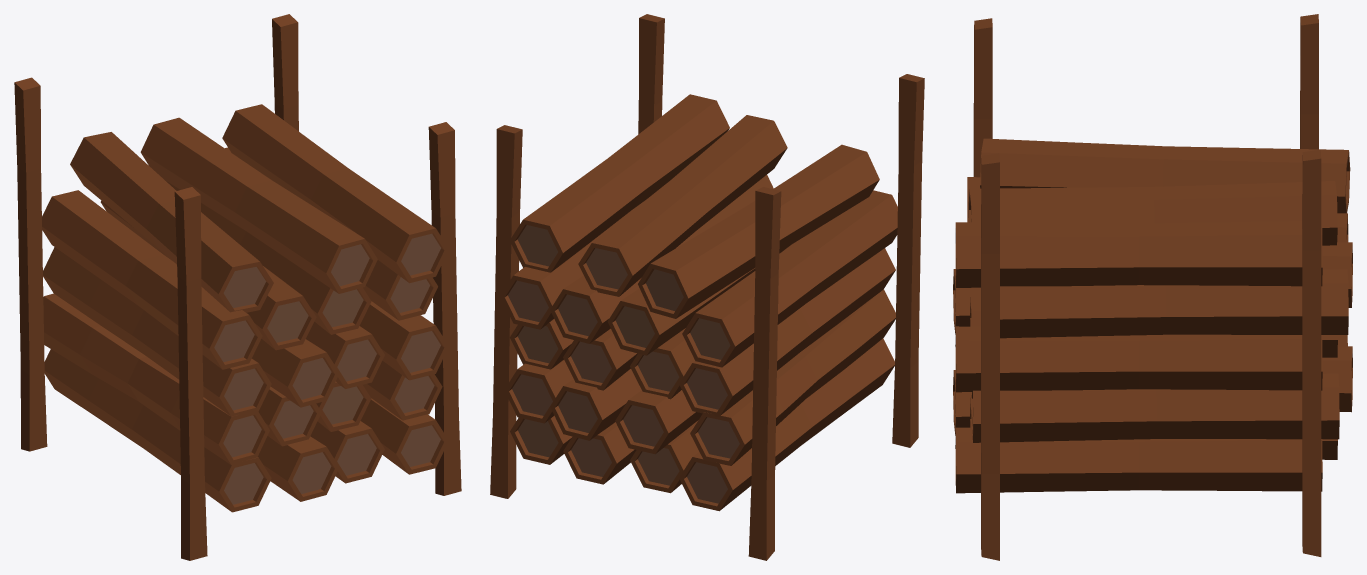
File: Logs1.fbx
The picture shows the model from 3 angles, left to right: view 1: azimuth 30°, elevation 25°; view 2: azimuth 150°, elevation 25°; view 3: azimuth 270°, elevation 25°; orthographic projection. The views are drawn at different scales.
Parts seen in each view (by area): view 1: Log_pile; view 2: Log_pile; view 3: Log_pile.
Boxes of the visible parts, x1=… form: Log_pile: x1=14, y1=14, x2=461, y2=560; Log_pile: x1=490, y1=14, x2=924, y2=560; Log_pile: x1=953, y1=14, x2=1352, y2=560.
Size of the model in its own units: 124 by 151 by 138.
